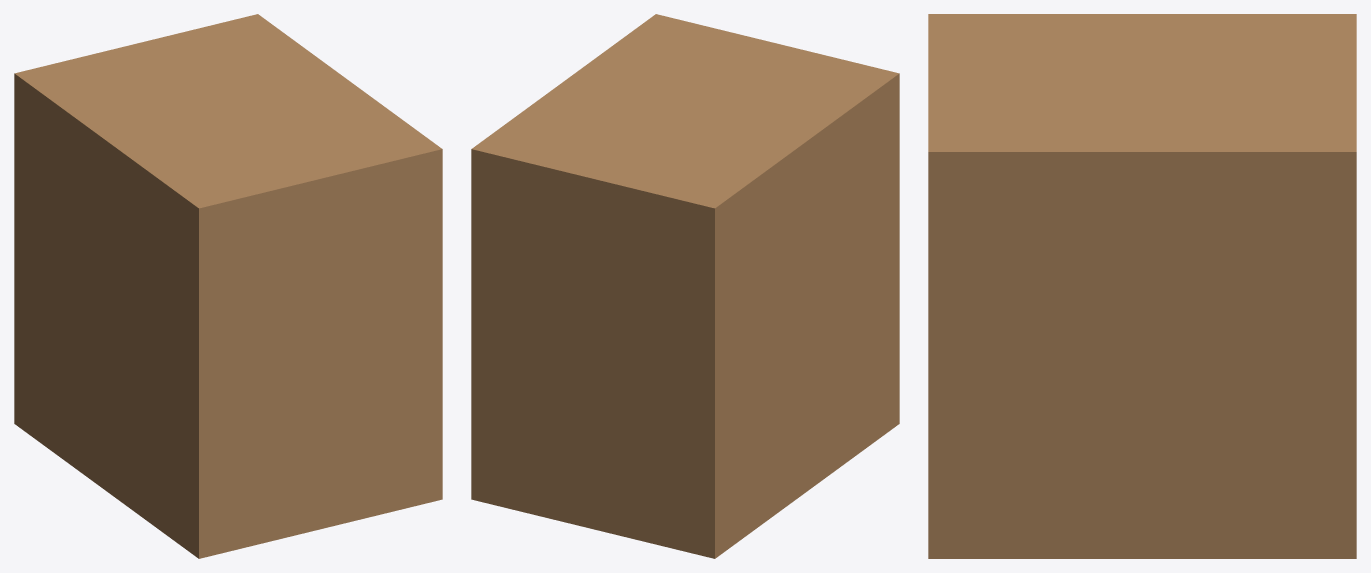
Rendered from canopy-bed-01.glb.
3 renders of one model, left to right at view 1: azimuth 30°, elevation 25°; view 2: azimuth 150°, elevation 25°; view 3: azimuth 270°, elevation 25°, orthographic. The views are drawn at different scales.
Size of the model in its own units: 1.6 by 2.2 by 2.1.
